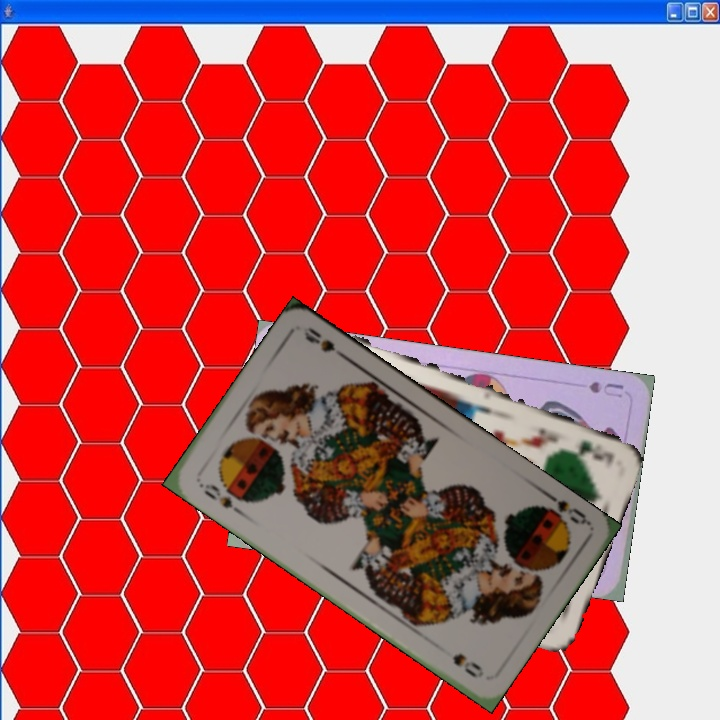GK: (573, 436, 617, 464)
SO: (533, 487, 592, 531), (194, 479, 245, 518)
SU: (584, 377, 627, 400)
